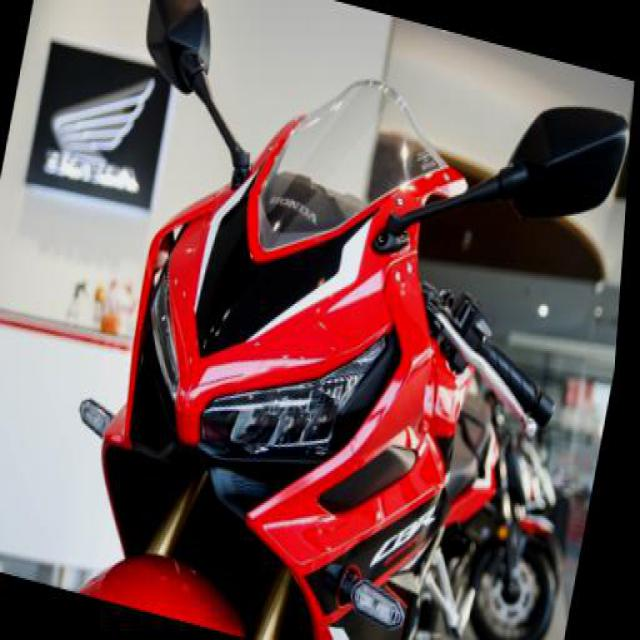CBR650R: (64, 19, 550, 638)
